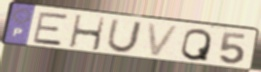5: (218, 30, 250, 65)
E: (31, 12, 70, 47)
H: (68, 14, 107, 53)
Q: (179, 27, 214, 63)
U: (104, 18, 144, 55)
V: (145, 21, 183, 58)
